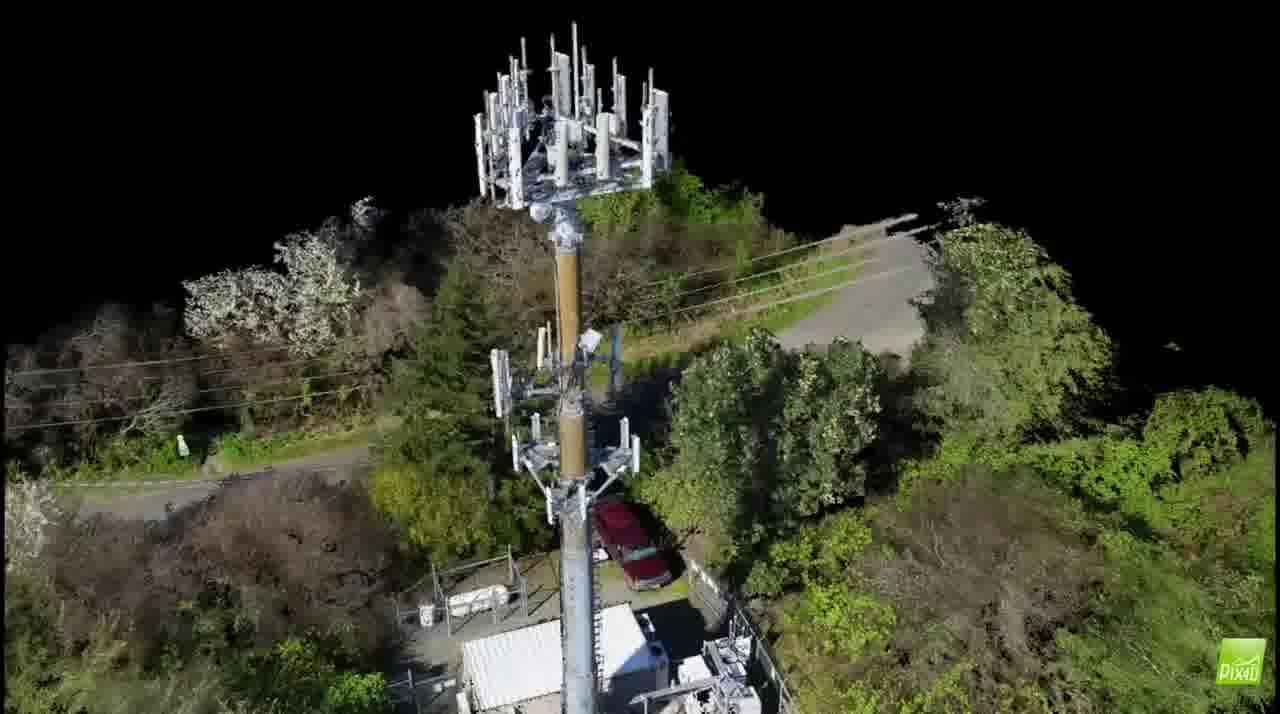antenna: (644, 83, 676, 163), (548, 116, 577, 190), (505, 124, 526, 216), (595, 106, 618, 181), (550, 48, 569, 122), (611, 69, 629, 125), (580, 55, 595, 117)
